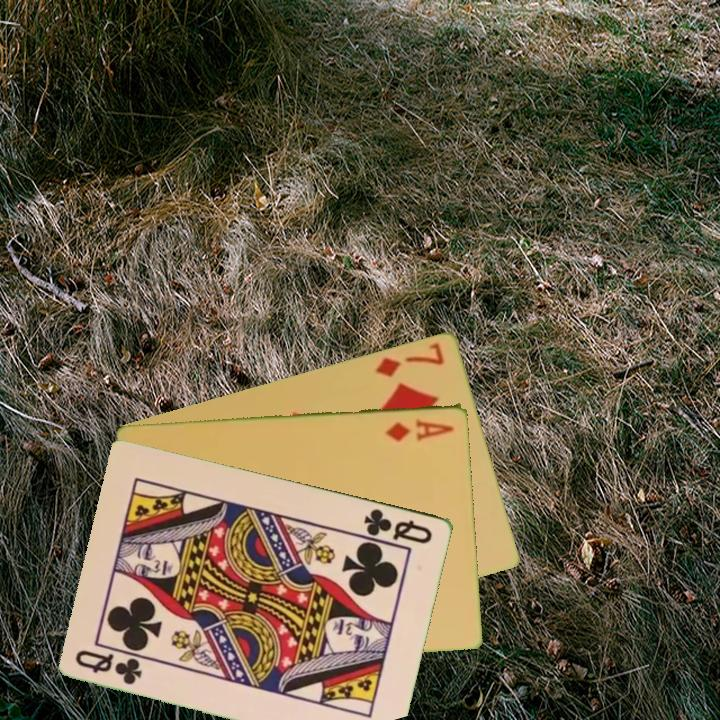7d: (372, 339, 447, 380)
Ad: (382, 414, 457, 444)
Qc: (360, 504, 436, 547), (72, 646, 146, 688)
